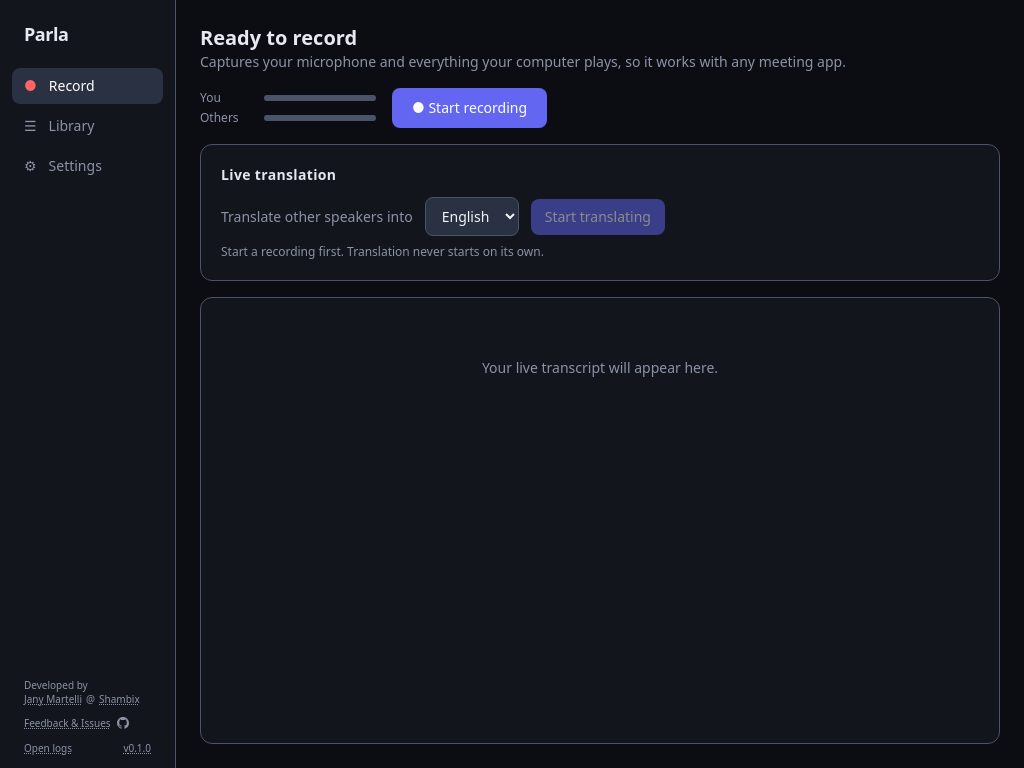
Test case: recording › translation never starts on its own
Expected: the navigation bar named "main" is shown, [0,0,176,767]
Click the button "● Start recording".
click(470, 108)  # box [392,88,547,128]
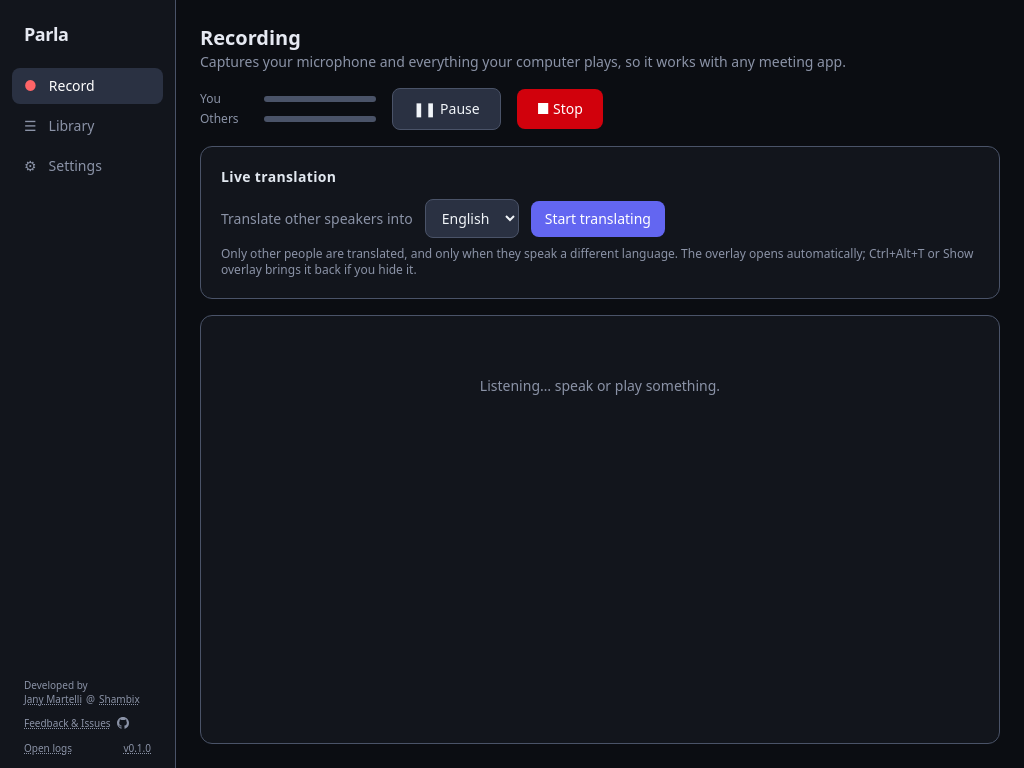
Result: the button "■ Stop" is shown at [517,89,603,129]
